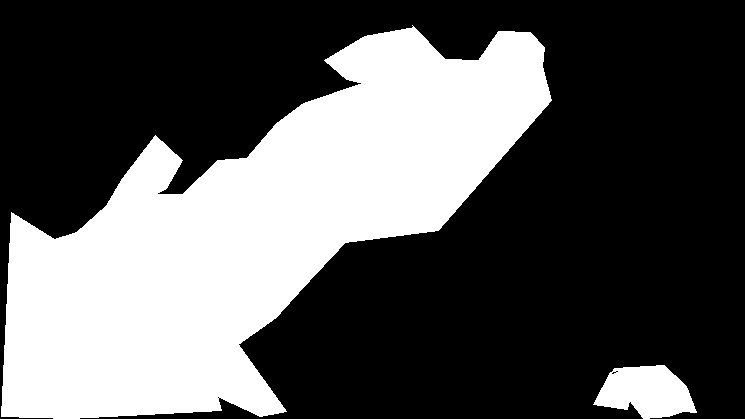fire: (282, 29, 557, 227)
